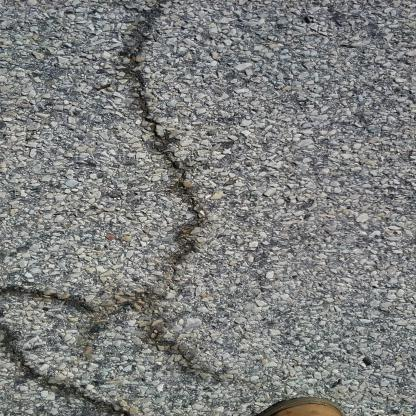Cracks: (98, 0, 224, 281), (0, 282, 203, 415)
